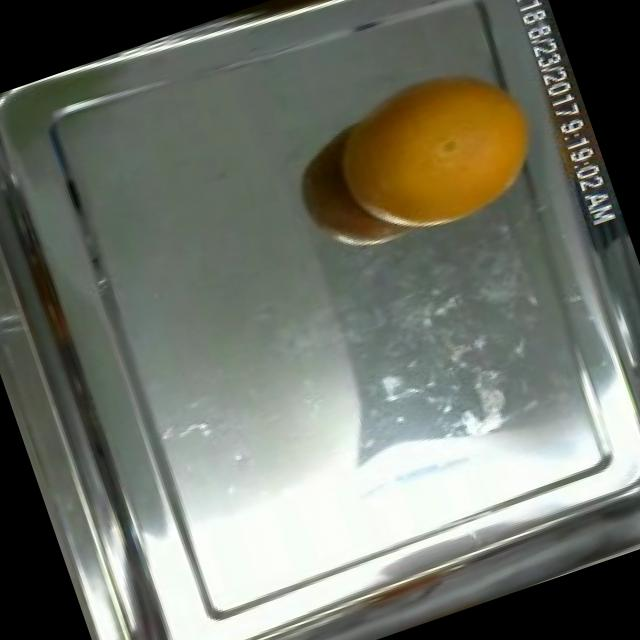Fruit: (314, 28, 576, 264)
